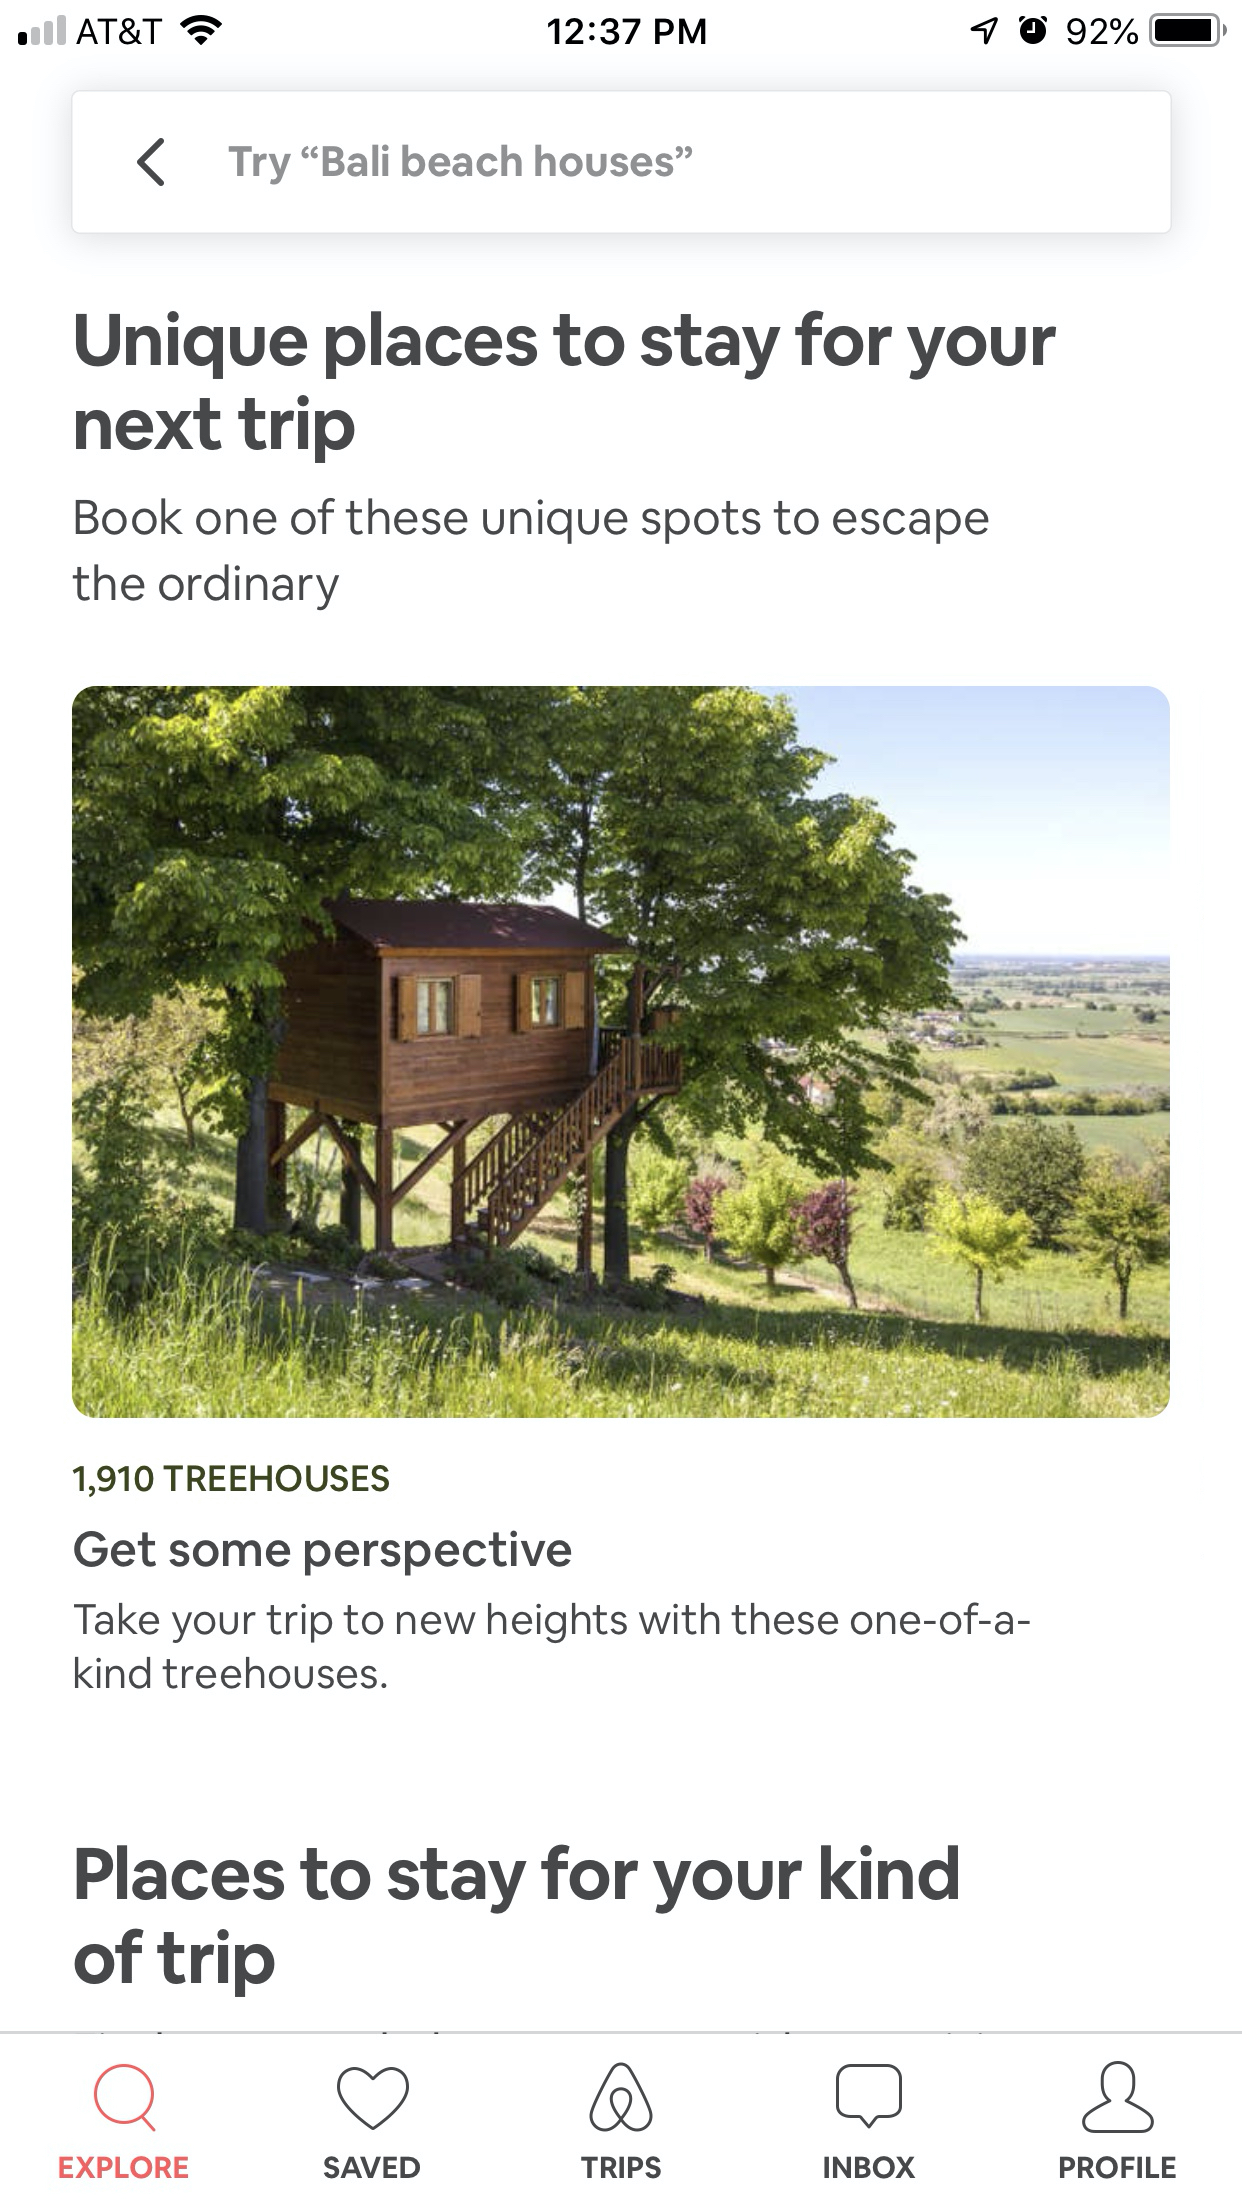EditText: (71, 89, 1172, 235)
Icon: (1081, 2059, 1156, 2134), (337, 2065, 411, 2131), (94, 2062, 158, 2134), (836, 2062, 902, 2129), (136, 138, 165, 188)
Image: (71, 685, 1171, 1419), (588, 2062, 654, 2134)
Text: (76, 309, 1057, 464), (74, 1843, 958, 1999), (73, 497, 990, 613), (74, 1601, 1031, 1689), (74, 1530, 573, 1577), (227, 146, 695, 187), (71, 1463, 390, 1498), (59, 2155, 190, 2181), (1060, 2155, 1177, 2181), (323, 2155, 422, 2179), (823, 2155, 916, 2181), (579, 2155, 663, 2179)
UpperTaskBar: (2, 2, 1242, 49)
